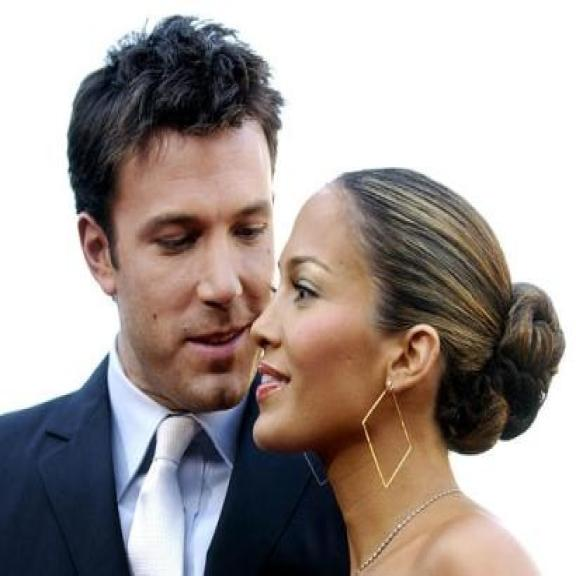face: (67, 98, 276, 412), (252, 174, 446, 461)
